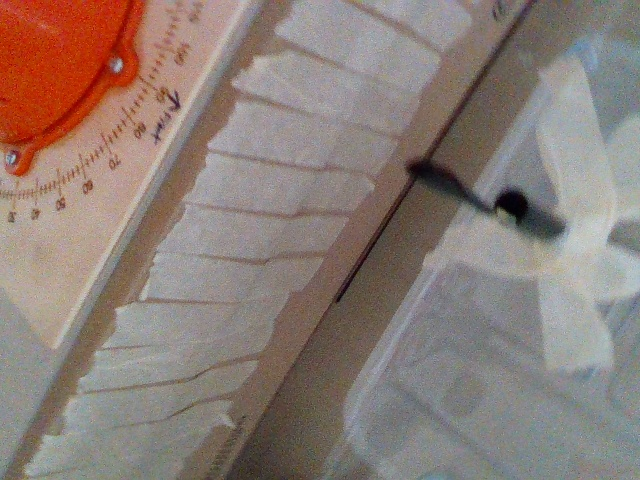test_strip: (403, 157, 515, 227)
